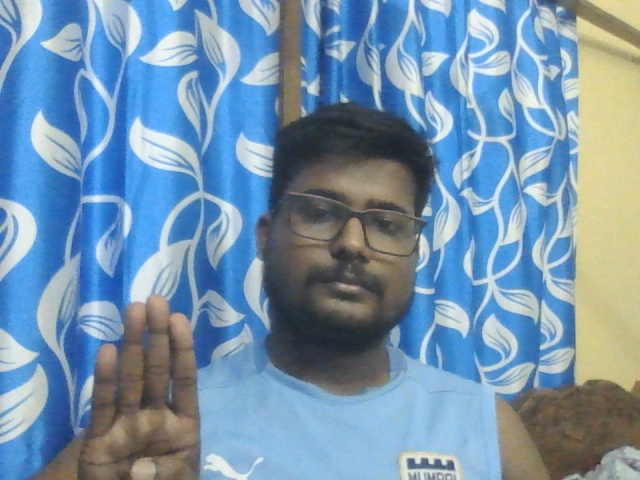B: (78, 294, 202, 480)
